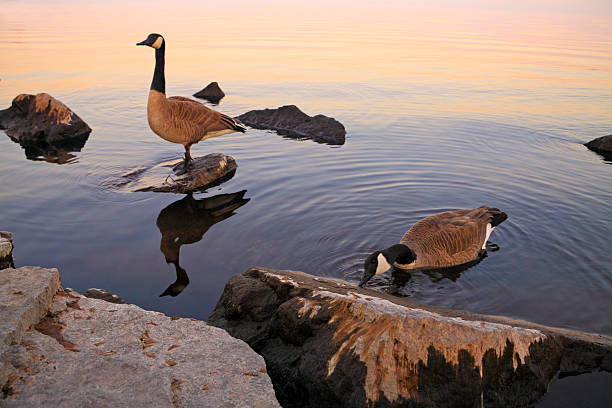goose: (131, 29, 250, 168), (353, 203, 511, 291)
